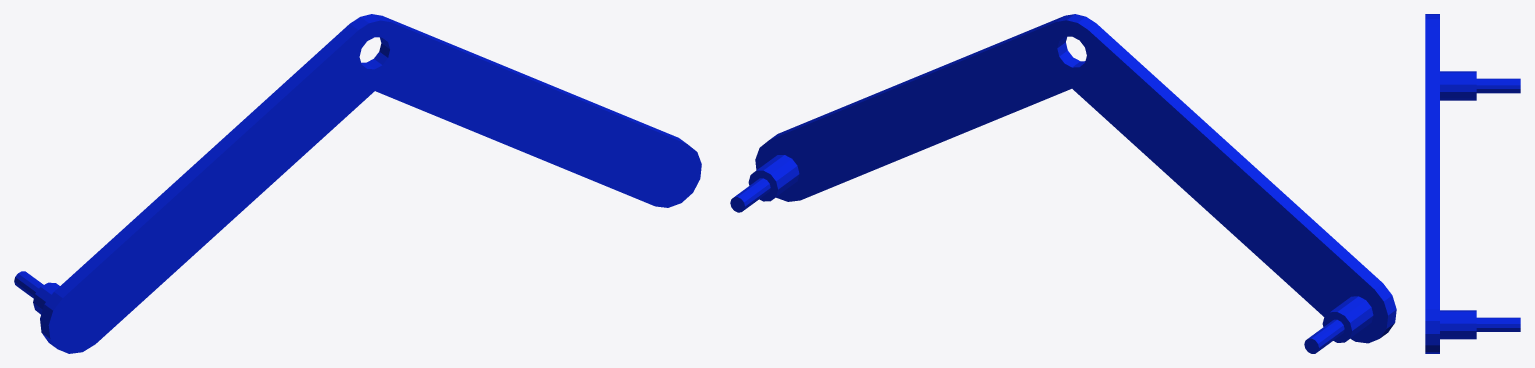
The model's file is LeftViceRocket.dae.
3 renders of one model, left to right at view 1: azimuth 30°, elevation 25°; view 2: azimuth 150°, elevation 25°; view 3: azimuth 270°, elevation 25°, orthographic. The views are drawn at different scales.
Parts seen in each view (by area): view 1: LeftViceRocket.001; view 2: LeftViceRocket.001; view 3: LeftViceRocket.001.
Boxes of the visible parts, x1,y1,x2,y2 form: LeftViceRocket.001: (14, 14, 701, 353); LeftViceRocket.001: (730, 14, 1396, 353); LeftViceRocket.001: (1425, 14, 1520, 353).
Bounding box in the file's own units: 0.8545 × 0.13 × 0.3239.
